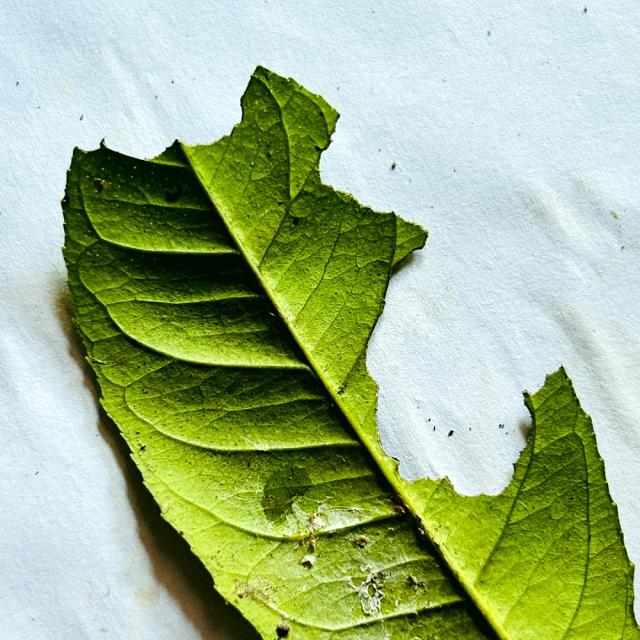Deficiency Leaf: (367, 245, 552, 495), (60, 65, 255, 158), (321, 116, 430, 228)
Lemon: (62, 67, 639, 639)
